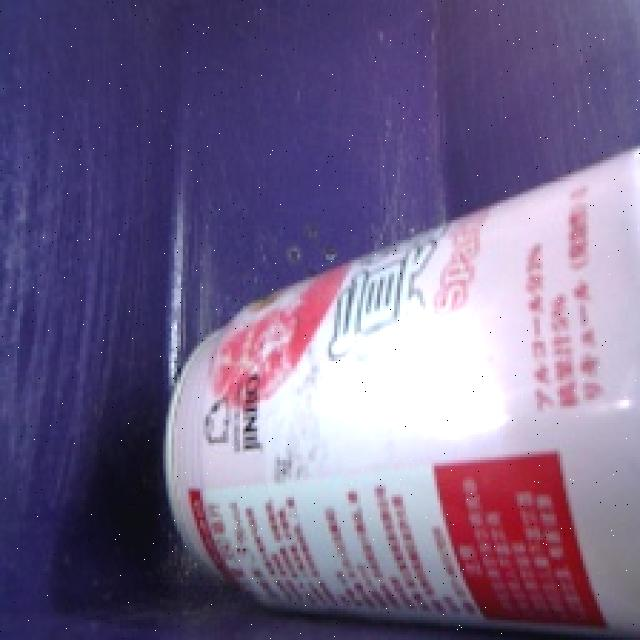metal: (155, 127, 640, 640)
